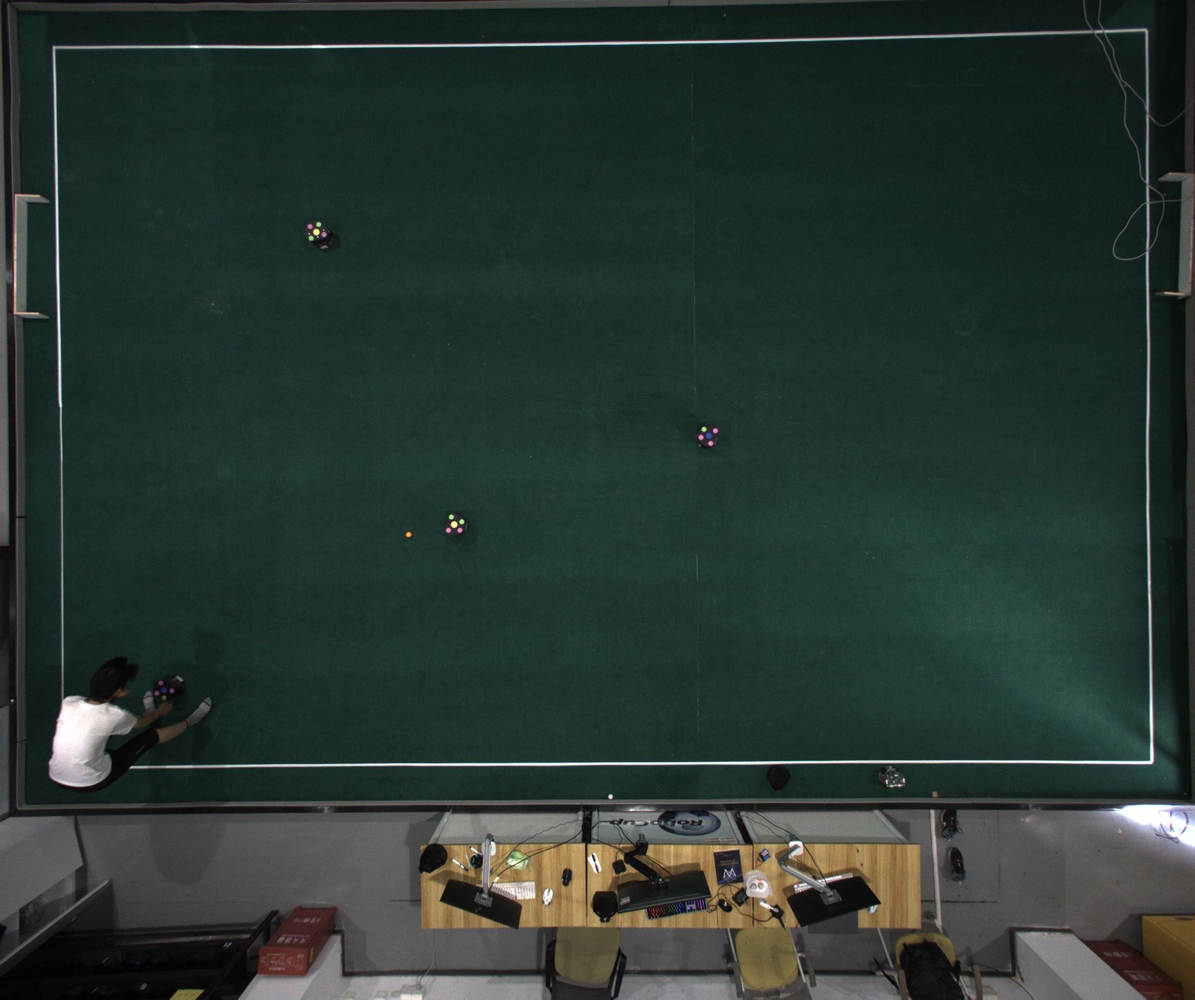ball: (406, 531, 412, 538)
blue_bot: (154, 679, 178, 702), (699, 425, 720, 449)
yellow_bot: (306, 220, 328, 242), (444, 513, 465, 536)
